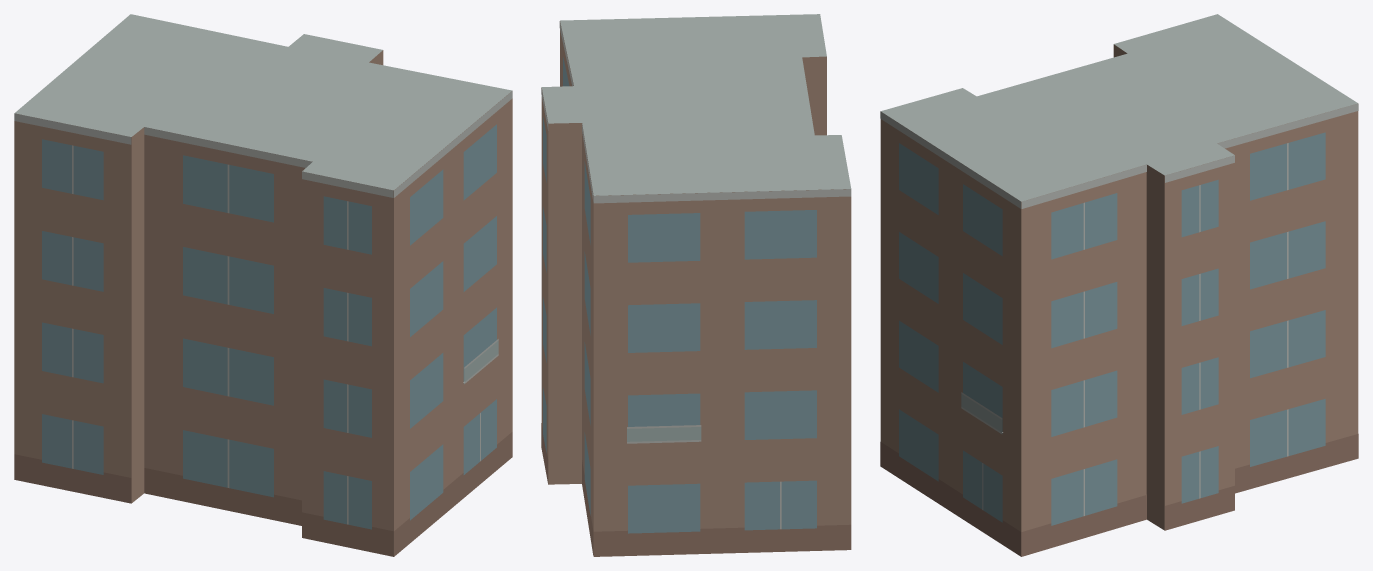
Rendered from survey-upis-32931158.glb.
The picture shows the model from 3 angles, left to right: view 1: azimuth 30°, elevation 25°; view 2: azimuth 150°, elevation 25°; view 3: azimuth 270°, elevation 25°; orthographic projection. The views are drawn at different scales.
Parts seen in each view (by area): view 1: survey-upis-32931158.tmp; view 2: survey-upis-32931158.tmp; view 3: survey-upis-32931158.tmp.
Part boxes in pixels (<box>): survey-upis-32931158.tmp: <box>14,14,512,556</box>; survey-upis-32931158.tmp: <box>541,14,851,556</box>; survey-upis-32931158.tmp: <box>880,14,1358,556</box>.
Bounding box in the file's own units: 13.16 × 11.6 × 14.16.
